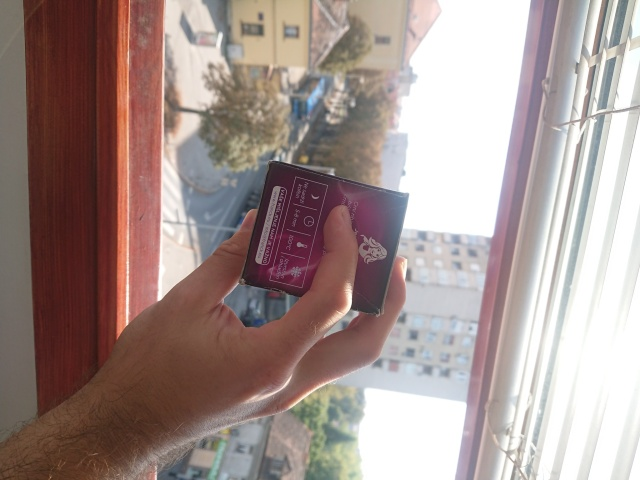Franck Black Currant Tea 60g: (237, 158, 412, 320)
